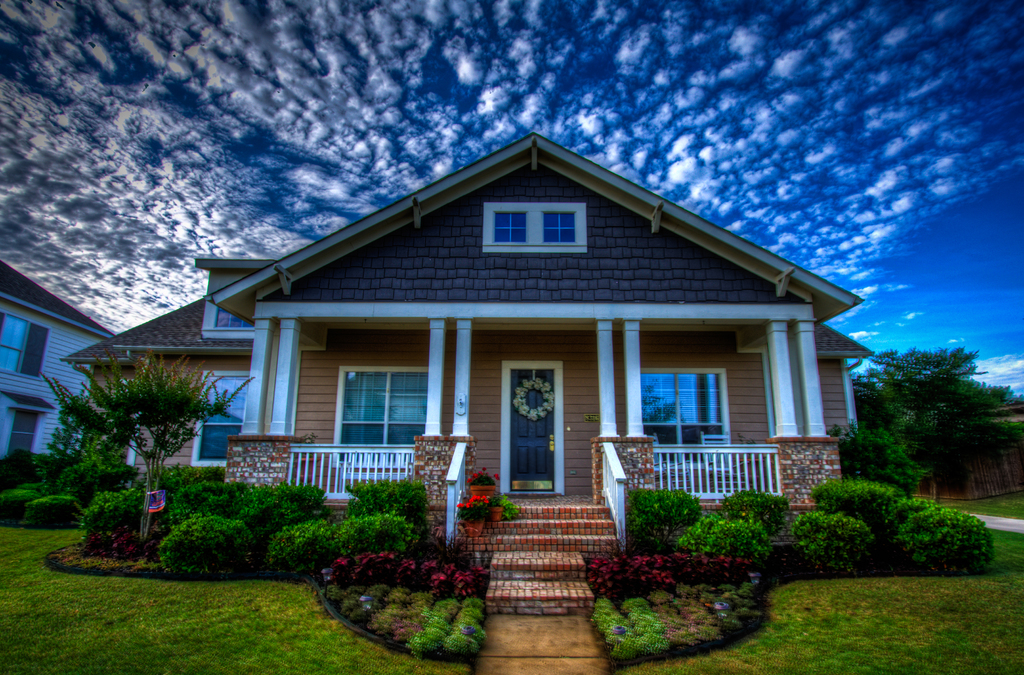Window: (330, 366, 426, 468), (644, 368, 729, 448), (189, 373, 252, 468), (483, 202, 591, 254), (1, 310, 44, 381), (198, 301, 259, 343), (7, 409, 40, 459)
